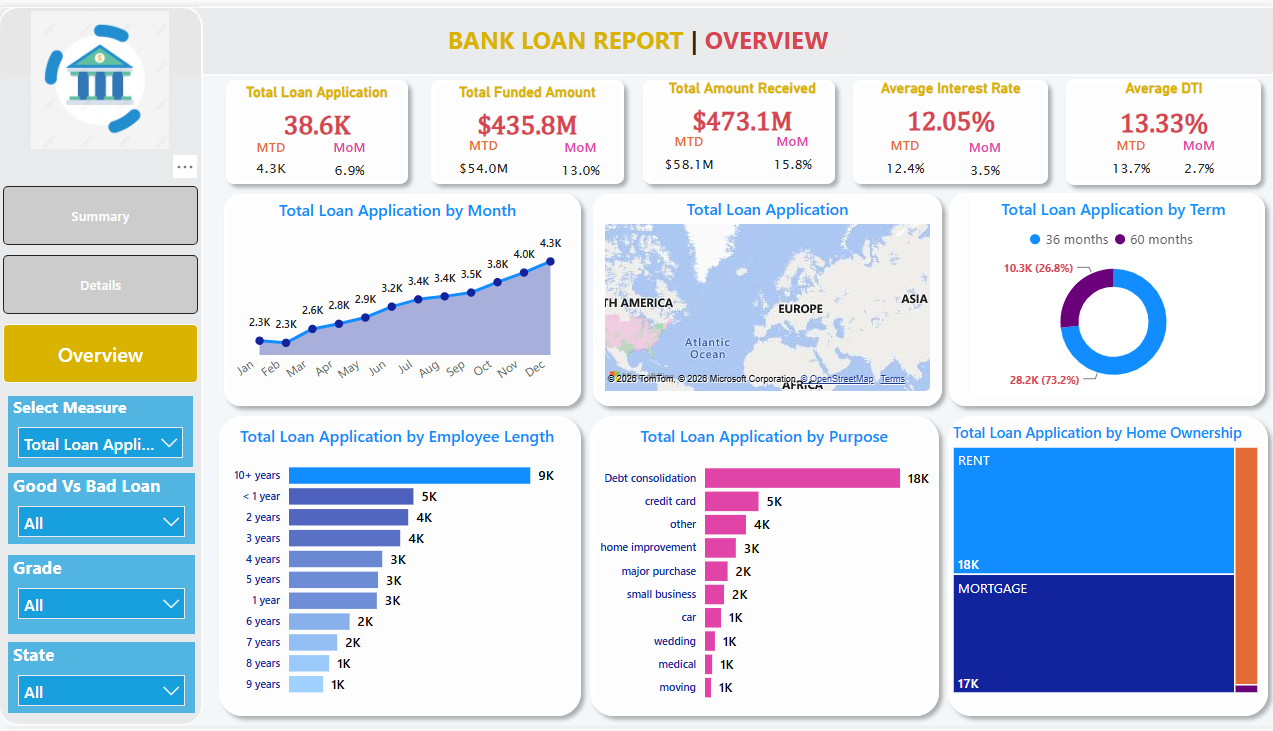

Layout of this report page (visuals, bound fields, positions):
{"tool":"powerbi","page":{"name":"Overview","canvas":[1280,720],"ordinal":2},"visuals":[{"type":"shape","box":[0,0,1280,70],"z":0},{"type":"shape","box":[0,0,204.9,719.7],"z":1000},{"type":"textbox","box":[435.7,11.7,408.5,46.7],"z":2000},{"type":"shape","box":[219.1,64.7,200.1,122.5],"z":3000},{"type":"shape","box":[424.4,64.7,210.5,122.5],"z":4000},{"type":"shape","box":[635.7,64.7,210.5,122.5],"z":5000},{"type":"shape","box":[846.1,64.7,213,122.5],"z":6000},{"type":"shape","box":[1059.2,63.8,213,124.2],"z":7000},{"type":"card","title":"Total Loan Application","fields":{"Values":["All Measure.Total Loan Application"]},"box":[226.8,77.6,184.6,65.6],"z":8000},{"type":"card","title":"Total Funded Amount","fields":{"Values":["All Measure.Total Funded Amount"]},"box":[437.3,77.6,184.6,65.6],"z":9000},{"type":"card","title":"Total Amount Received","fields":{"Values":["All Measure.Total Amount Received"]},"box":[652.1,74.2,184.6,65.6],"z":10000},{"type":"card","title":"Average Interest Rate","fields":{"Values":["All Measure.Avg Interest Rate"]},"box":[860.8,74.2,183.7,65.6],"z":11000},{"type":"card","title":"Average DTI","fields":{"Values":["All Measure.Avt DTI"]},"box":[1073.9,74.2,184.6,69],"z":12000},{"type":"card","title":"MTD","fields":{"Values":["All Measure.MTD Loan Application"]},"box":[242.4,132,62.1,48.3],"z":13000},{"type":"card","title":"MoM","fields":{"Values":["All Measure.MoM Loan Application"]},"box":[317.4,132,69,50.9],"z":14000},{"type":"card","title":"MTD","fields":{"Values":["All Measure.MTD Interest Rate"]},"box":[872.9,130.2,68.1,50.9],"z":15000},{"type":"card","title":"MoM","fields":{"Values":["All Measure.MoM Interest Rate"]},"box":[953.1,132,68.1,50.9],"z":16000},{"type":"card","title":"MTD","fields":{"Values":["All Measure.MTD Total Amount Received"]},"box":[652.1,125.9,77.6,50.9],"z":17000},{"type":"card","title":"MoM","fields":{"Values":["All Measure.MoM Amount Received"]},"box":[759.9,125.9,69,50.9],"z":18000},{"type":"card","title":"MTD","fields":{"Values":["All Measure.MTD Total Funded Amount"]},"box":[442.5,130.2,86.3,50.9],"z":19000},{"type":"card","title":"MoM","fields":{"Values":["All Measure.MoM Funded Amount"]},"box":[543.4,132,78.5,50.9],"z":20000},{"type":"card","title":"MTD","fields":{"Values":["All Measure.MTD DTI"]},"box":[1098.9,130.2,68.1,50.9],"z":21000},{"type":"card","title":"MoM","fields":{"Values":["All Measure.MoM DTI"]},"box":[1167,130.2,68.1,50.9],"z":22000},{"type":"slicer","title":"Grade","fields":{"Values":["financialloandata.grade"]},"box":[9.8,549.2,186.9,78.7],"z":23000},{"type":"slicer","title":"State","fields":{"Values":["financialloandata.address_state"]},"box":[9.8,636.1,186.9,70.5],"z":24000},{"type":"slicer","title":"Good Vs Bad Loan","fields":{"Values":["financialloandata.Good Vs Bad Loan"]},"box":[9.8,467.2,186.9,70.5],"z":25000},{"type":"shape","box":[216.9,179,375.4,229.5],"z":26000},{"type":"shape","box":[585.5,179,367.7,229.5],"z":27000},{"type":"shape","box":[212,400.7,380.3,318.1],"z":28000},{"type":"shape","box":[582.6,400.7,367.7,318.1],"z":29000},{"type":"shape","box":[940.5,400.7,338.5,318.1],"z":30000},{"type":"shape","box":[941.5,178,334.6,231.5],"z":31000},{"type":"areaChart","fields":{"Y":["All Measure.Total Loan Application"],"Category":["Date Table.Month"]},"box":[230.5,192.6,337.5,202.3],"z":32000},{"type":"slicer","title":"Select Measure","fields":{"Values":["Select Measure.Select Measure"]},"box":[9.8,390.2,185.2,70.5],"z":33000},{"type":"filledMap","title":"Total Loan Application","fields":{"Category":["financialloandata.address_state"]},"box":[602.1,191.6,334.6,198.4],"z":34000},{"type":"donutChart","fields":{"Y":["All Measure.Total Loan Application"],"Category":["financialloandata.term"]},"box":[971.7,191.6,286.9,198.4],"z":35000},{"type":"barChart","fields":{"Y":["All Measure.Total Loan Application"],"Category":["financialloandata.emp_length"]},"box":[230.3,419.2,337.3,281.2],"z":36000},{"type":"barChart","fields":{"Y":["All Measure.Total Loan Application"],"Category":["financialloandata.purpose"]},"box":[596.2,419.2,339.5,286.9],"z":37000},{"type":"treemap","fields":{"Values":["All Measure.Total Loan Application"],"Group":["financialloandata.home_ownership"]},"box":[950.3,416.3,315.1,275.3],"z":38000},{"type":"image","box":[3.3,0,196.7,147.5],"z":39000},{"type":"pageNavigator","box":[4.9,180.3,195.1,196.7],"z":40000}]}

Visuals, with their boxes in screenshot pixels (x1, y1, x2, y2), scaled from the page's 1280x720 canvas onto the 1273x731 screenshot:
shape: BBox(0, 0, 1272, 71)
shape: BBox(0, 0, 204, 730)
textbox: BBox(433, 12, 840, 59)
shape: BBox(218, 66, 417, 190)
shape: BBox(422, 66, 631, 190)
shape: BBox(632, 66, 842, 190)
shape: BBox(841, 66, 1053, 190)
shape: BBox(1053, 65, 1265, 191)
"Total Loan Application" card: BBox(226, 79, 409, 145)
"Total Funded Amount" card: BBox(435, 79, 618, 145)
"Total Amount Received" card: BBox(649, 75, 832, 142)
"Average Interest Rate" card: BBox(856, 75, 1039, 142)
"Average DTI" card: BBox(1068, 75, 1252, 145)
"MTD" card: BBox(241, 134, 303, 183)
"MoM" card: BBox(316, 134, 384, 186)
"MTD" card: BBox(868, 132, 936, 184)
"MoM" card: BBox(948, 134, 1016, 186)
"MTD" card: BBox(649, 128, 726, 180)
"MoM" card: BBox(756, 128, 824, 180)
"MTD" card: BBox(440, 132, 526, 184)
"MoM" card: BBox(540, 134, 618, 186)
"MTD" card: BBox(1093, 132, 1161, 184)
"MoM" card: BBox(1161, 132, 1228, 184)
"Grade" slicer: BBox(10, 558, 196, 637)
"State" slicer: BBox(10, 646, 196, 717)
"Good Vs Bad Loan" slicer: BBox(10, 474, 196, 546)
shape: BBox(216, 182, 589, 415)
shape: BBox(582, 182, 948, 415)
shape: BBox(211, 407, 589, 730)
shape: BBox(579, 407, 945, 730)
shape: BBox(935, 407, 1272, 730)
shape: BBox(936, 181, 1269, 416)
areaChart - All Measure.Total Loan Application x Date Table.Month: BBox(229, 196, 565, 401)
"Select Measure" slicer: BBox(10, 396, 194, 468)
"Total Loan Application" filledMap: BBox(599, 195, 932, 396)
donutChart - All Measure.Total Loan Application x financialloandata.term: BBox(966, 195, 1252, 396)
barChart - All Measure.Total Loan Application x financialloandata.emp_length: BBox(229, 426, 564, 711)
barChart - All Measure.Total Loan Application x financialloandata.purpose: BBox(593, 426, 931, 717)
treemap - All Measure.Total Loan Application x financialloandata.home_ownership: BBox(945, 423, 1258, 702)
image: BBox(3, 0, 199, 150)
pageNavigator: BBox(5, 183, 199, 383)
